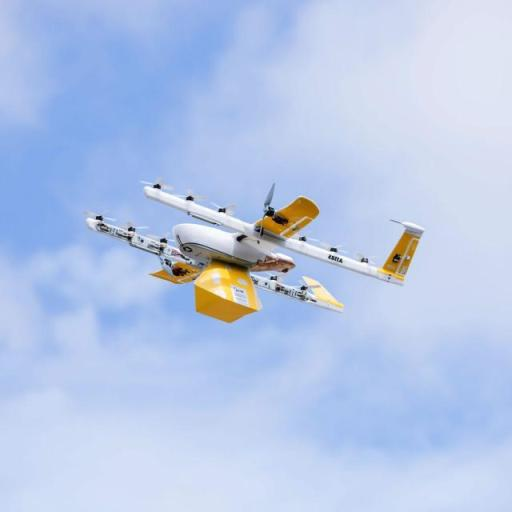uav: (80, 176, 430, 324)
